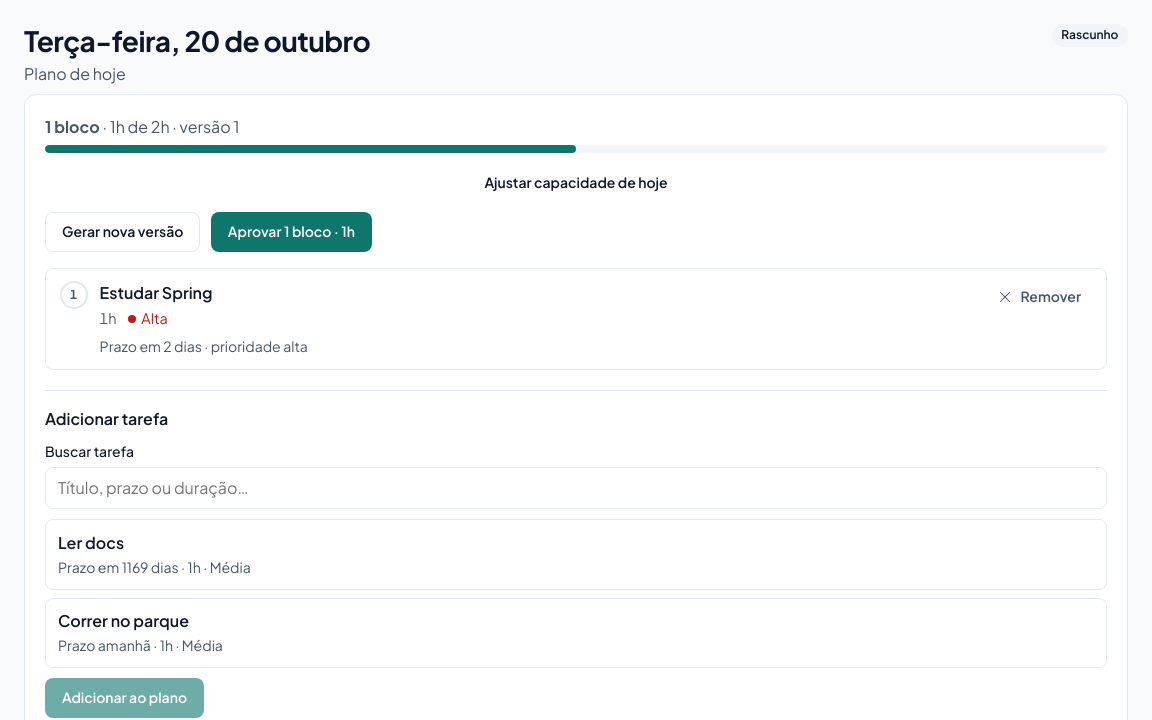
HomePage — plano do dia › F4 — adicionar tarefa › T5: adicionar tarefa filtra por texto na lista pesquisável
This screenshot has width=1152, height=720.
Check: the option "Ler docs Prazo em 1169 dias · 1h · Média" is shown, box 45,519 -> 1107,590
Check: the option "Correr no parque Prazo amanhã · 1h · Média" is shown, box 45,598 -> 1107,668
Type "correr" into the dropdown labelled "Buscar tarefa".
click(576, 488); type("correr")  # box 45,467 -> 1107,509
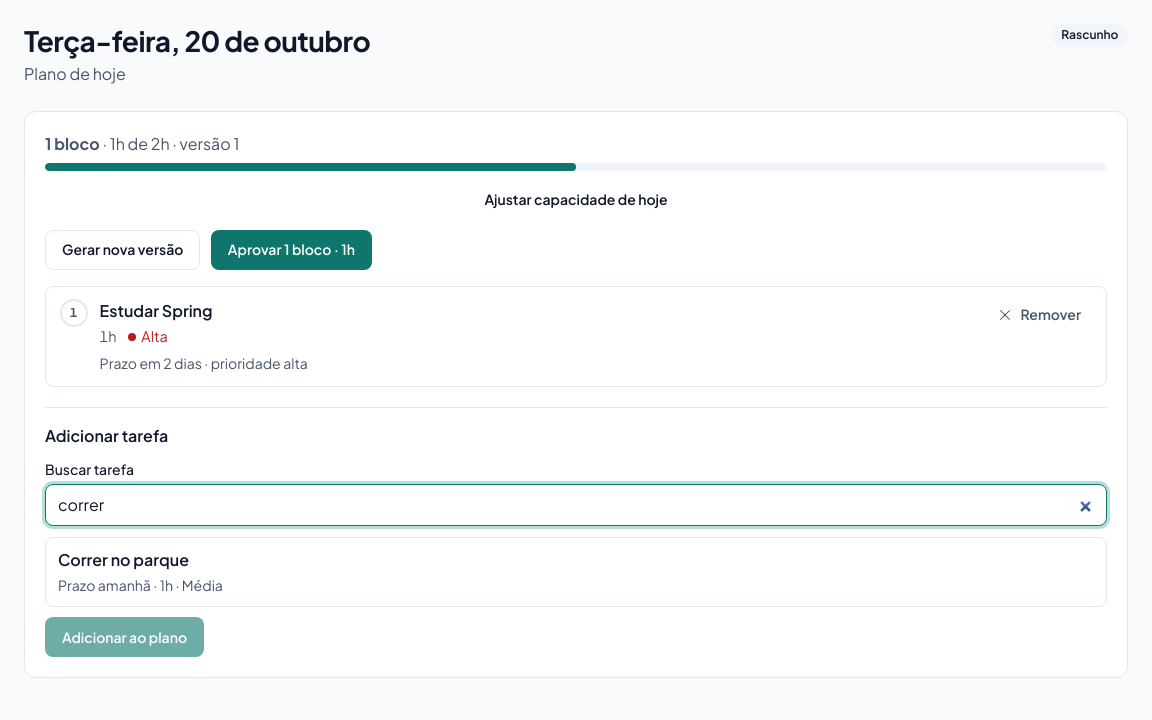
Check: the option "Correr no parque Prazo amanhã · 1h · Média" is shown, box 45,537 -> 1107,607
Check: the option "Ler docs" is gone
